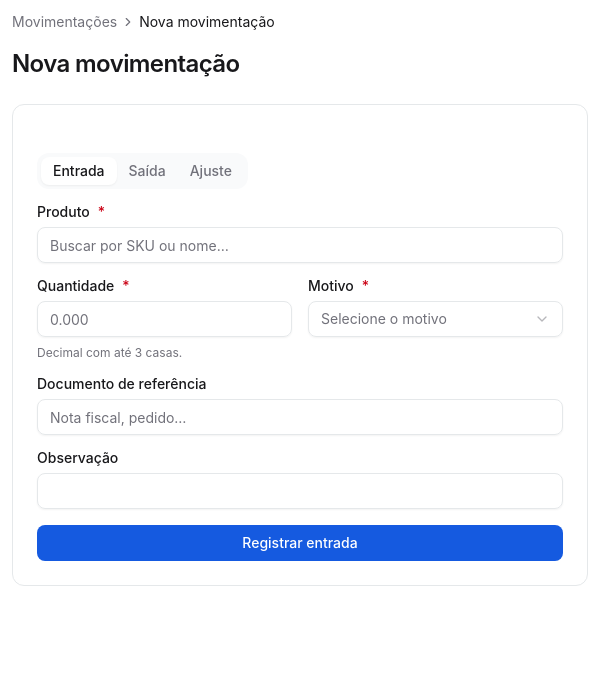
Test: MovementNewPage › saldo insuficiente (409) mostra a mensagem com available/requested, sem travar a tela
Click the tab "Saída" at (147, 171), box [116,157,178,185]
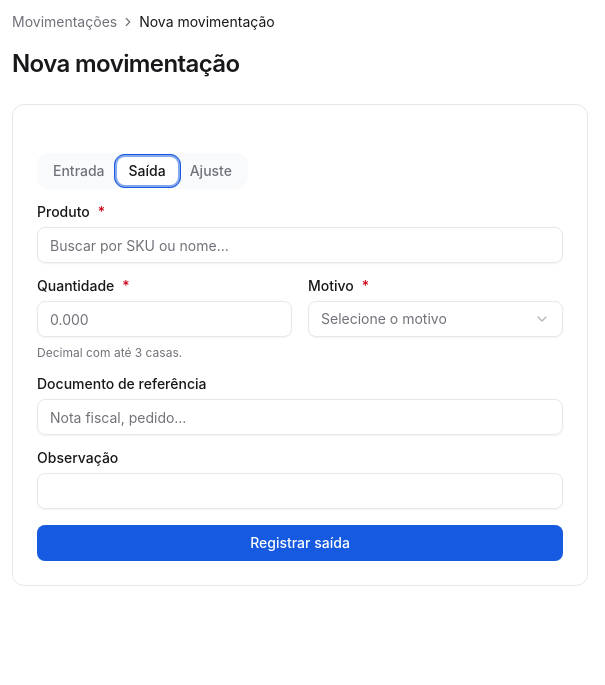
Type "chave" into the dropdown with placeholder "Buscar por SKU ou nome…" at (300, 245), box [37,227,563,263]
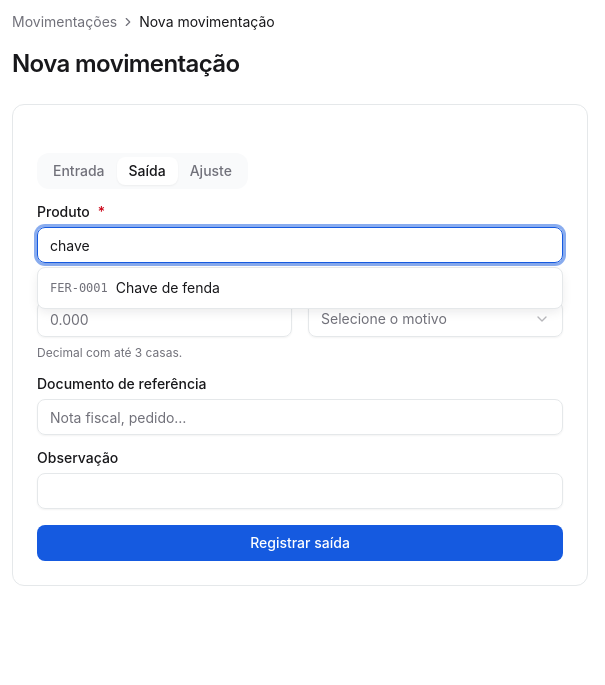
Click the button "FER-0001 Chave de fenda" at (79, 288), box [42,272,558,304]
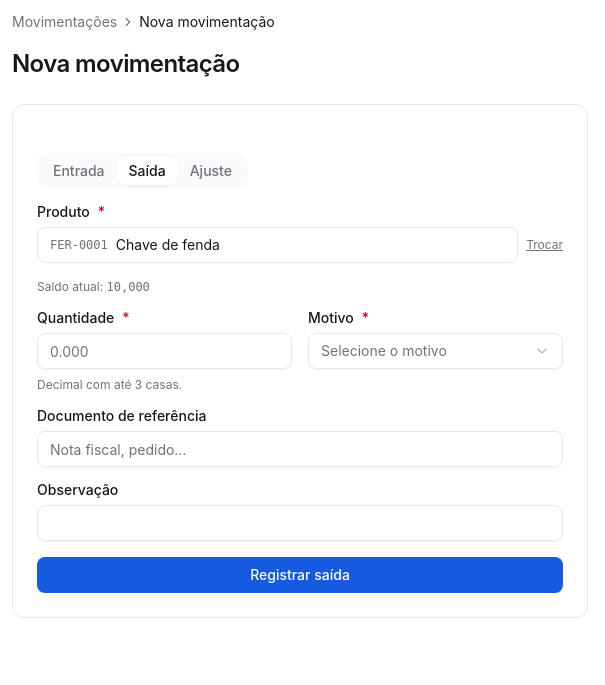
Type "999.000" into the field with placeholder "0.000" at (164, 351), box [37,333,292,369]
Click the dropdown labelled "Selecione o motivo" at (436, 351), box [308,333,563,369]
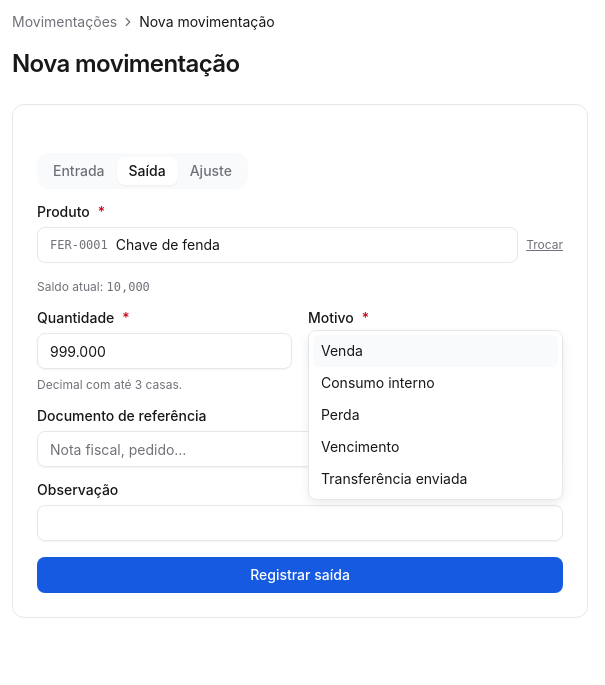
Click the option "Venda" at (436, 351), box [313,335,558,367]
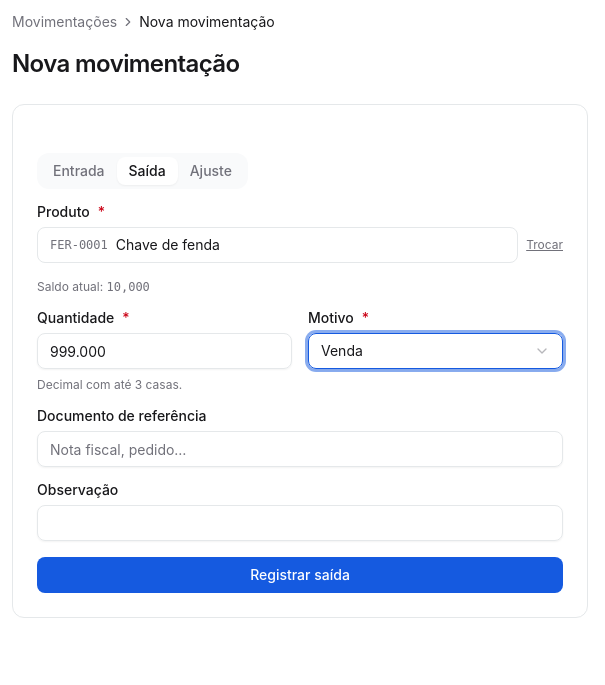
Click the button "Registrar saída" at (300, 575), box [37,557,563,593]
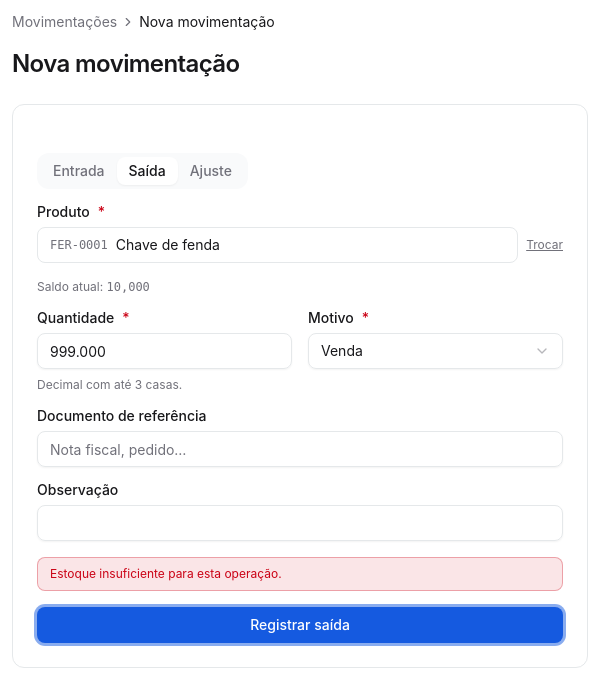
expect the button "Registrar saída" is shown: met, box [37,607,563,643]
expect the text "Estoque insuficiente para esta operação." is shown: met, box [37,557,563,591]
